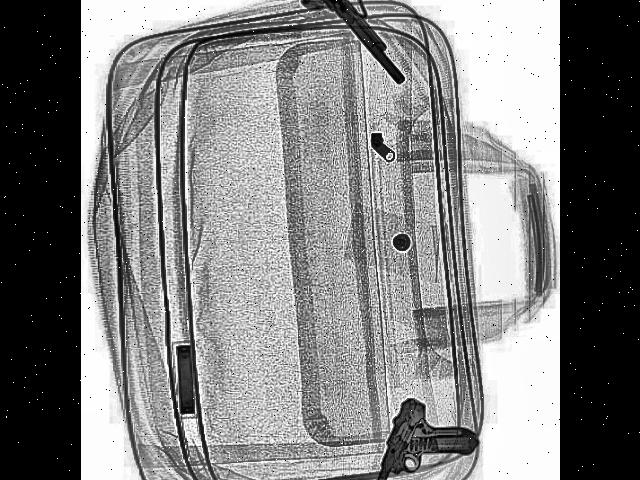Gun: (362, 381, 476, 480), (281, 0, 413, 83)
